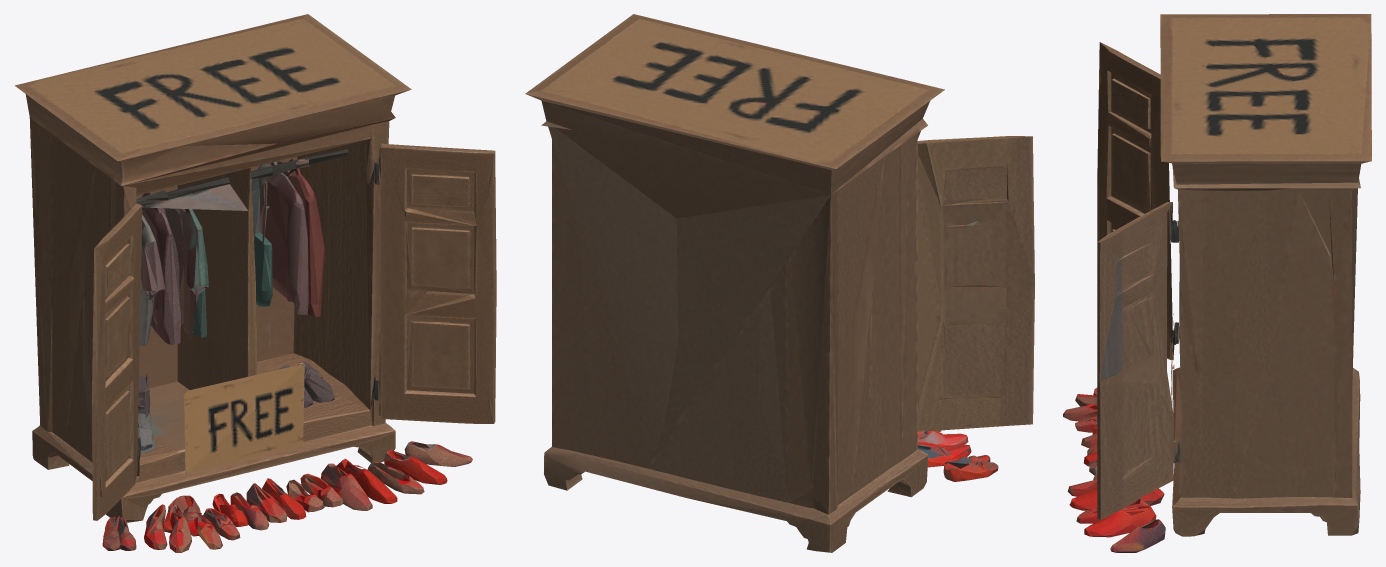
3 renders of one model, left to right at view 1: azimuth 30°, elevation 25°; view 2: azimuth 150°, elevation 25°; view 3: azimuth 270°, elevation 25°, orthographic. The views are drawn at different scales.
Bounding box in the file's own units: 1.88 × 1.66 × 1.21.
1 material, 1 textured.
